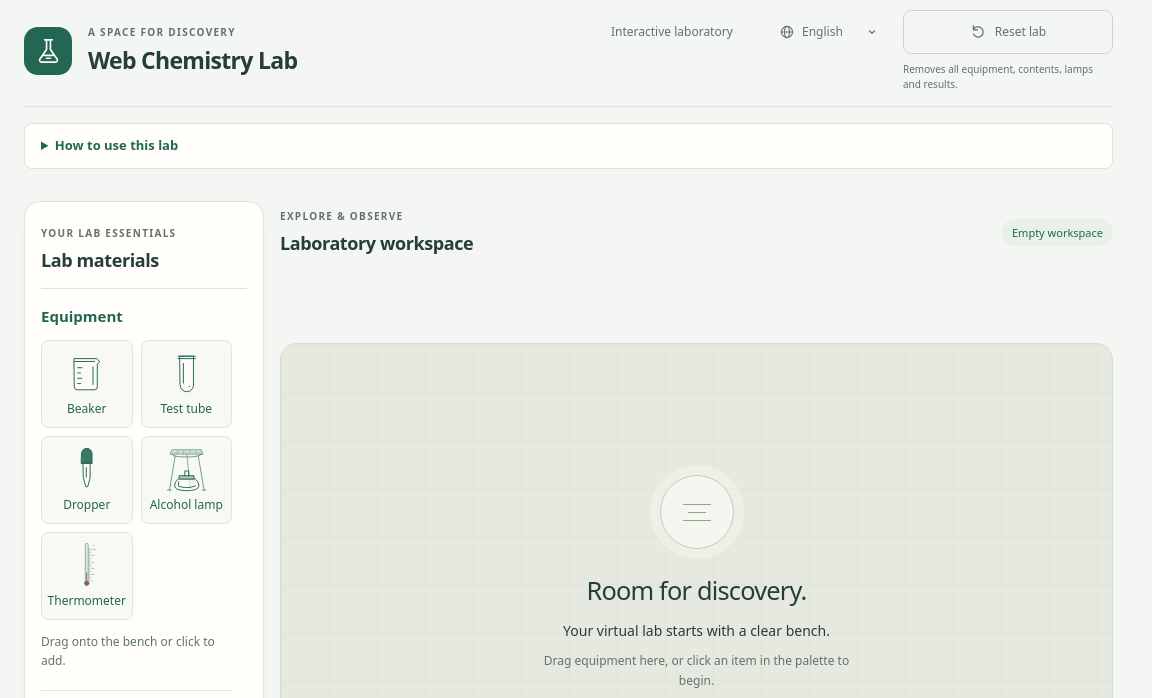
Test case: M7 teaching workflow › offers actionable empty and ready hints, without evaluating on chemical addition
Click the button with aria-label "Add Test tube" at (186, 384), box [140,340,232,428]
(page scrolled)
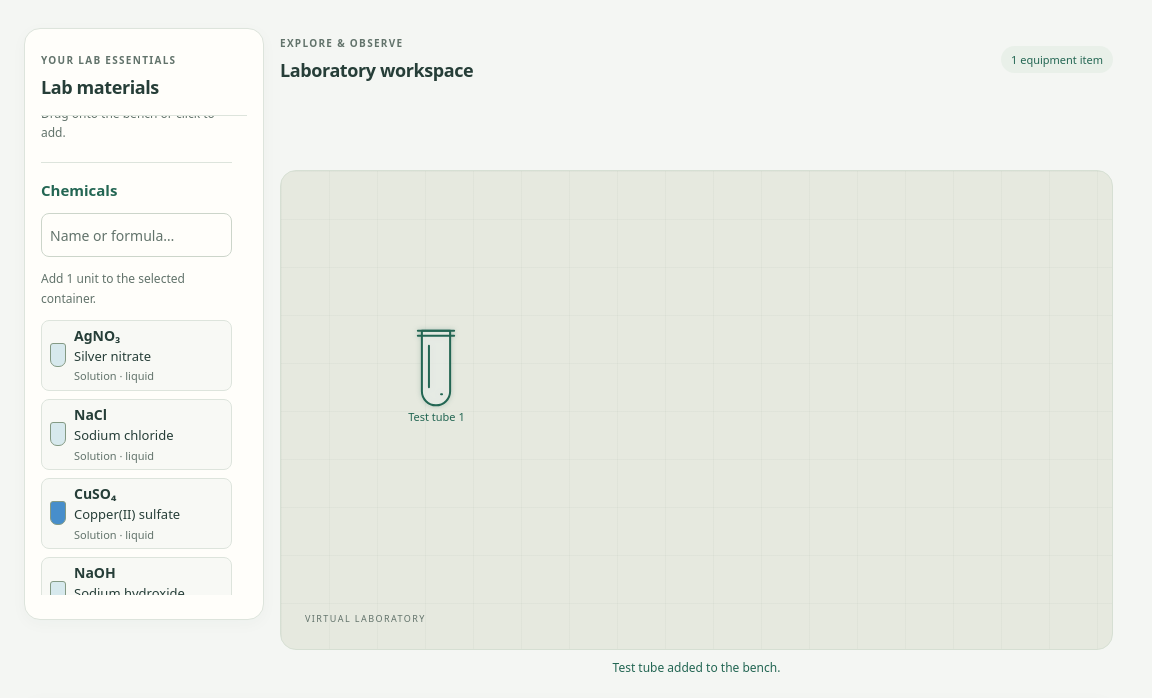
Click the button with aria-label "Add Silver nitrate" at (136, 355), box [41,320,232,391]
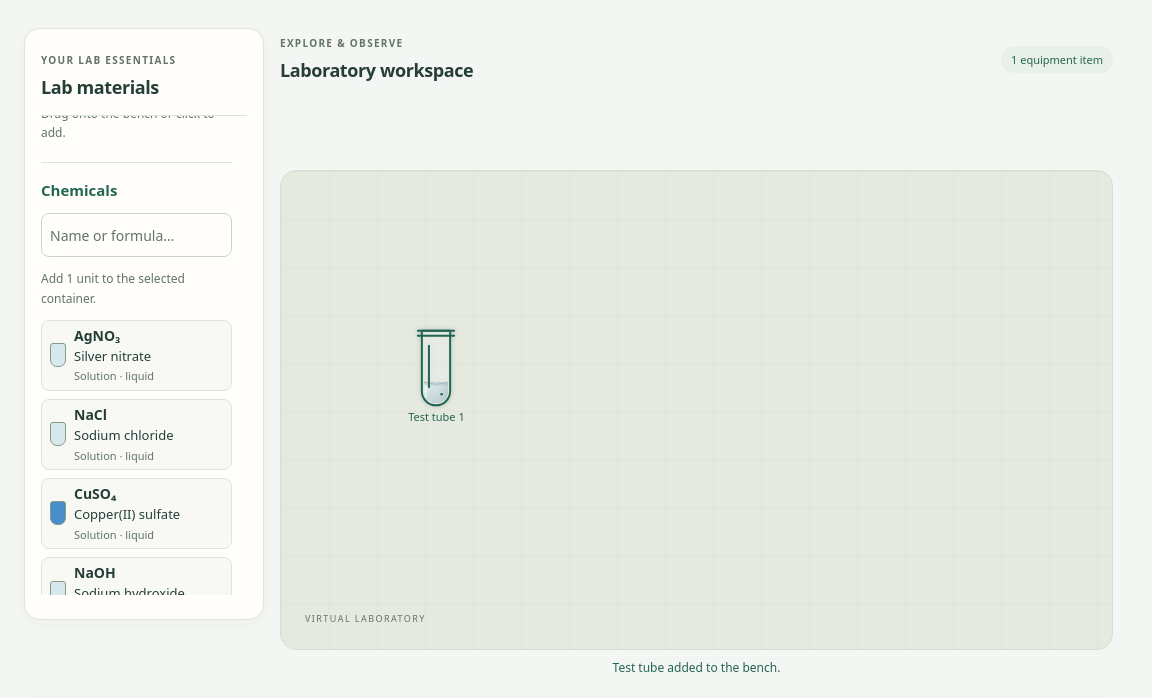
Click the button with aria-label "Add Sodium chloride" at (136, 434), box [41,399,232,470]
(page scrolled)
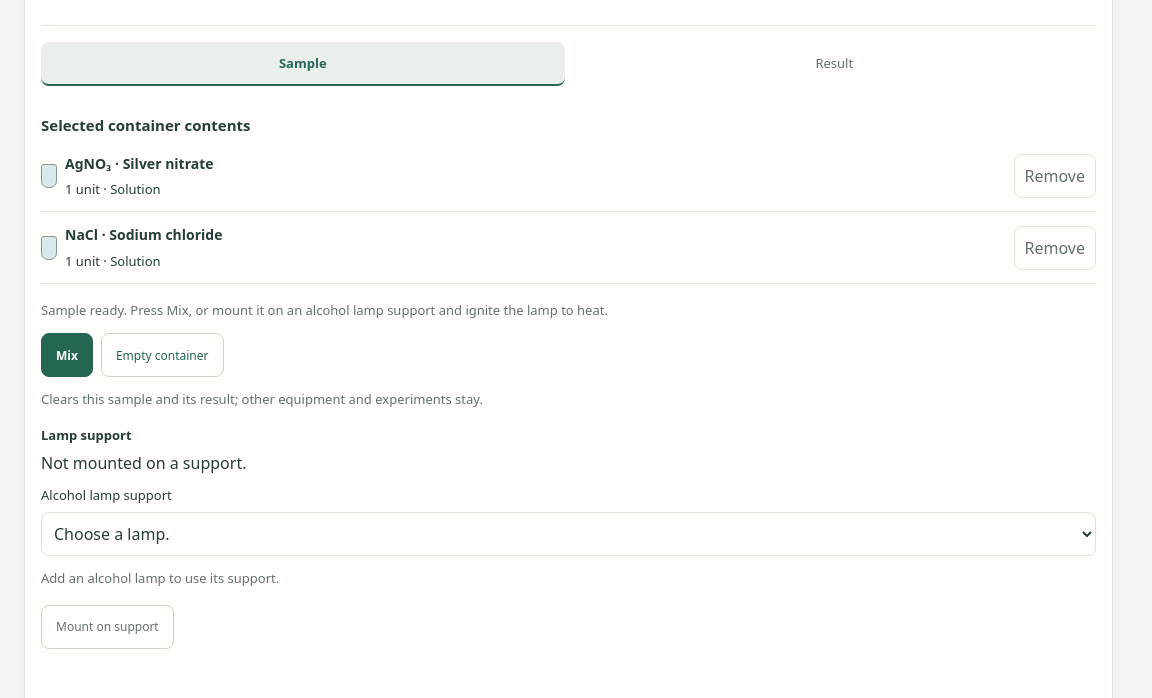
Click the button "Mix" at (67, 355), box [41,333,93,377]
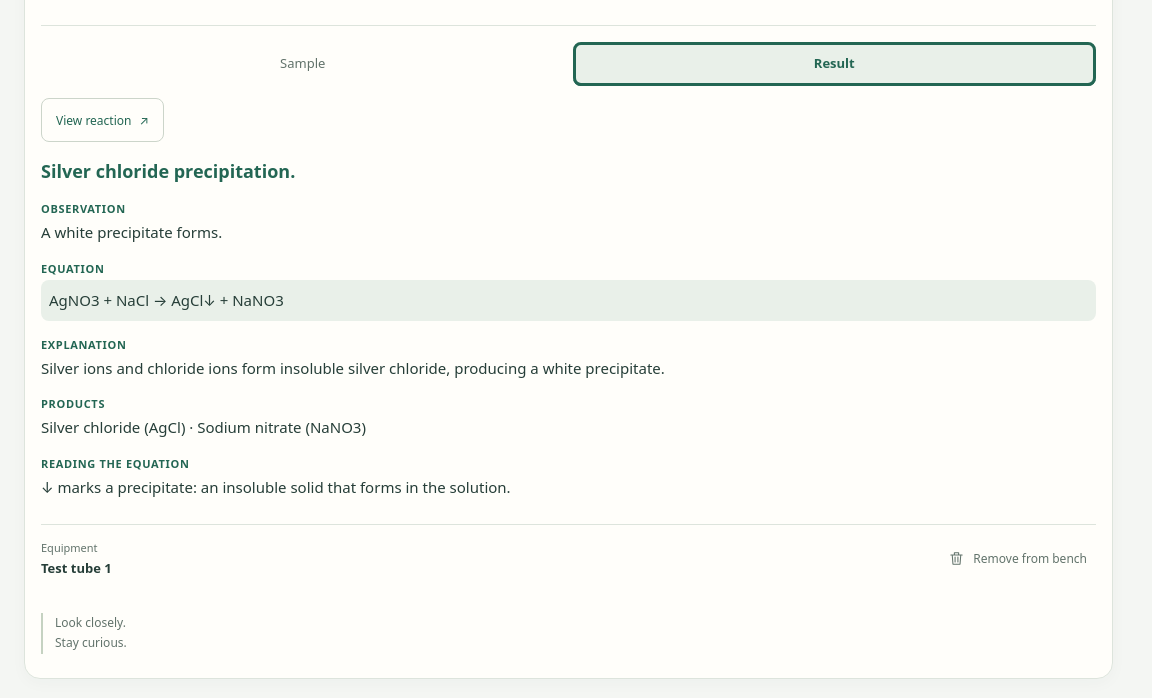
Expected: the text "Sample ready" is gone
Expected: the heading "Silver chloride precipitation." is shown, [41,159,295,183]
